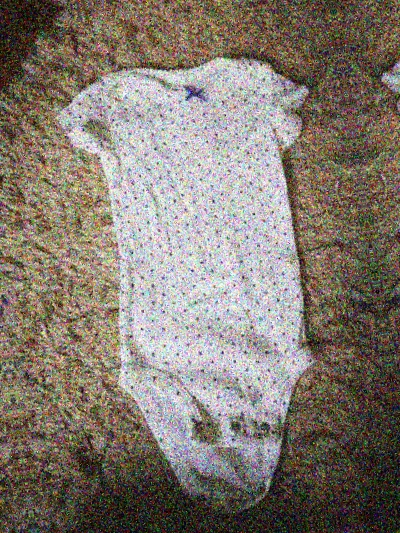Body: (40, 28, 380, 526), (364, 0, 400, 475)
